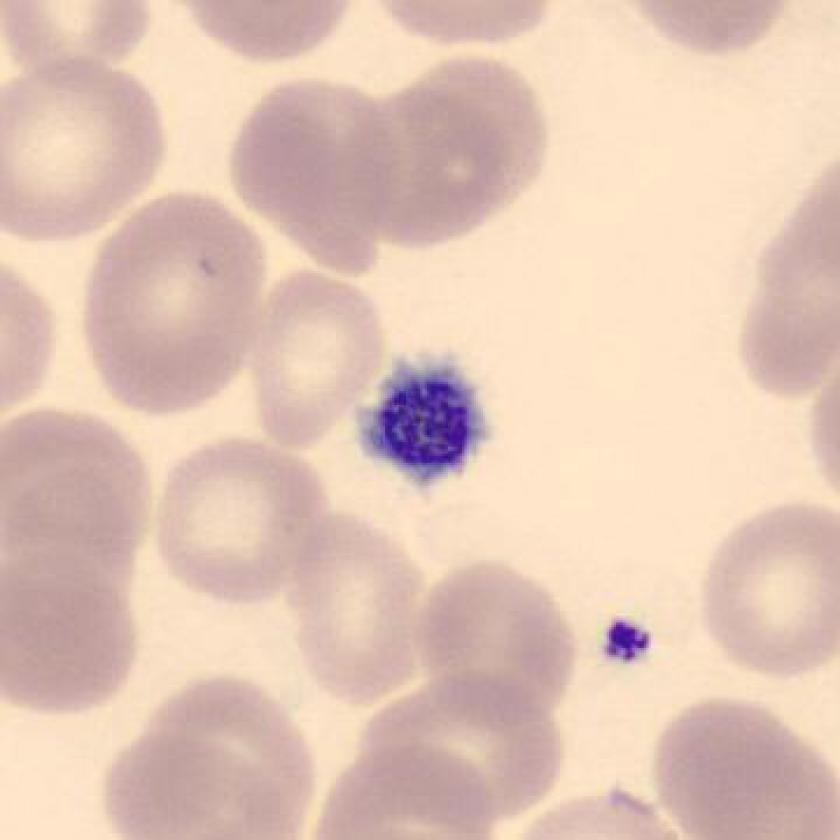platelets: (349, 344, 505, 506), (596, 603, 664, 684)
